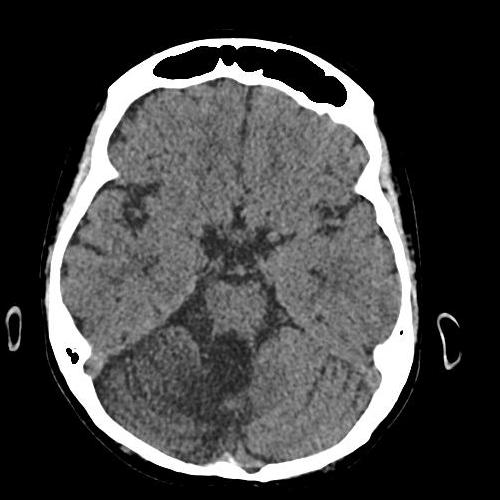Cancer: (188, 327, 271, 415)
